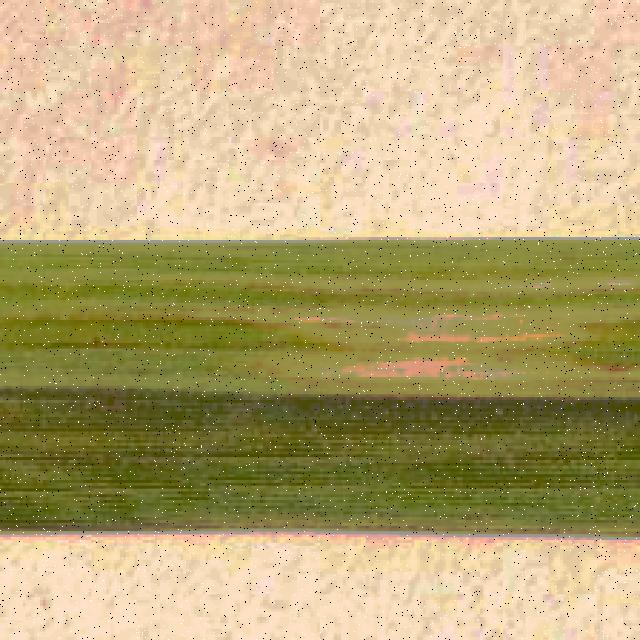unhealth: (0, 242, 640, 530)
